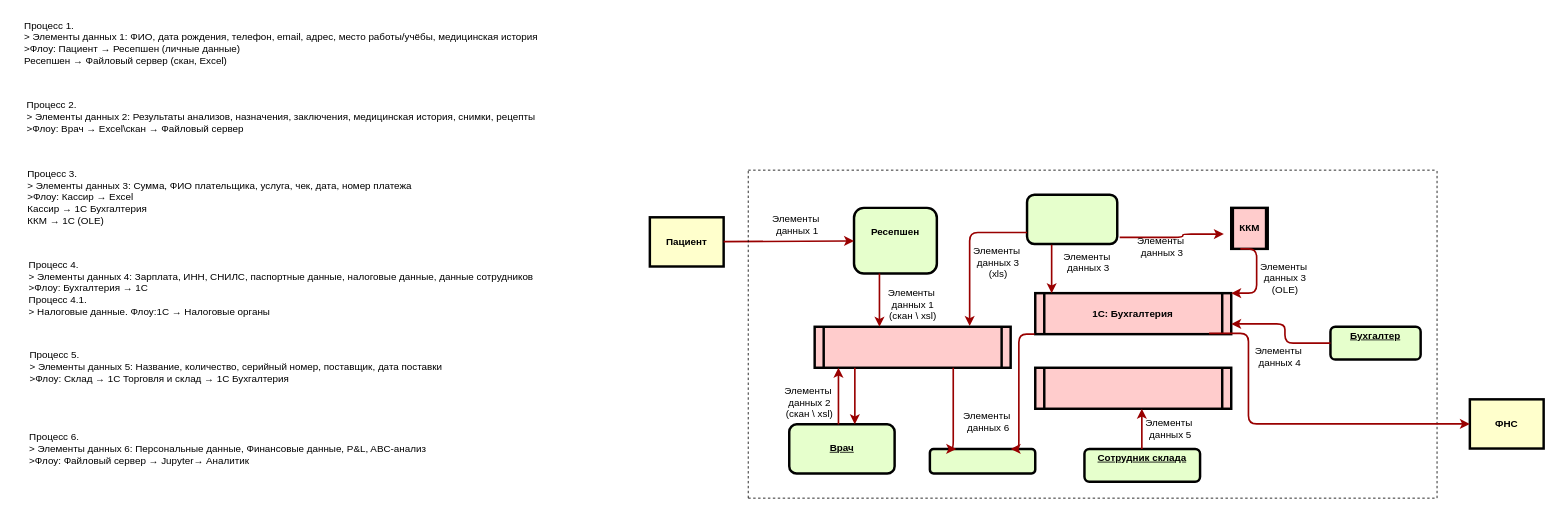
This 1559x513 diagram has some shape labels left out. Each missing label, with the centre of its shape:
"1C: Торговля и Склад" belongs at point (1133, 388).
"Бизнес-аналитик" belongs at point (982, 460).
"Кассир" belongs at point (1071, 219).
"ФАЙЛОВЫЙ СЕРВЕР" belongs at point (912, 347).
